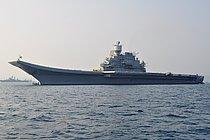MIL_Ship: (7, 40, 205, 84)
